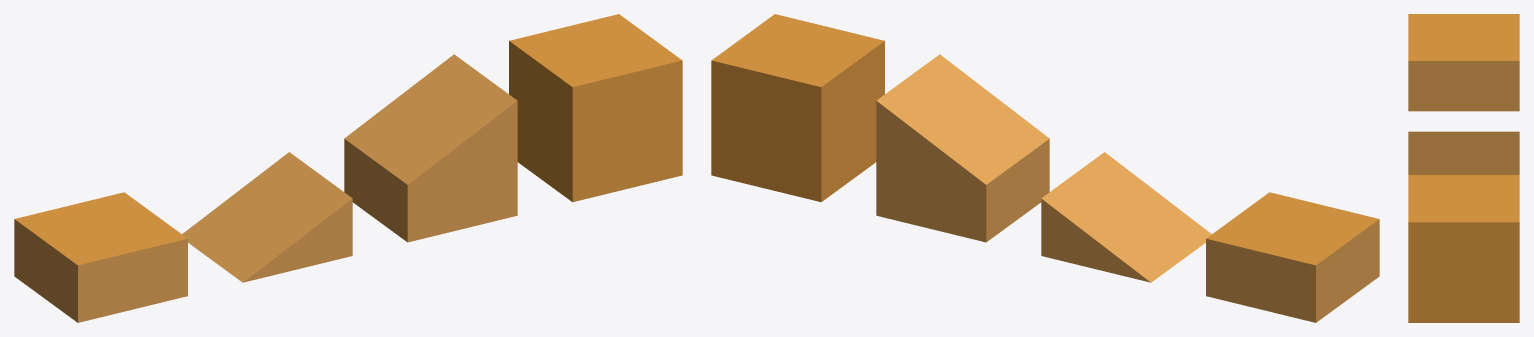
File: world-blocks-v1.glb
3 renders of one model, left to right at view 1: azimuth 30°, elevation 25°; view 2: azimuth 150°, elevation 25°; view 3: azimuth 270°, elevation 25°, orthographic. The views are drawn at different scales.
Parts seen in each view (by area): view 1: Block, RampTop, ShortBlock, RampBottom; view 2: Block, RampTop, ShortBlock, RampBottom; view 3: Block, ShortBlock, RampTop, RampBottom.
Boxes of the visible parts, bbox=[...] form: Block: bbox=[509, 14, 682, 202]; RampTop: bbox=[344, 54, 517, 242]; ShortBlock: bbox=[14, 192, 187, 322]; RampBottom: bbox=[182, 152, 352, 282]; Block: bbox=[711, 14, 884, 202]; RampTop: bbox=[876, 54, 1049, 242]; ShortBlock: bbox=[1206, 192, 1379, 322]; RampBottom: bbox=[1041, 152, 1211, 282]; Block: bbox=[1408, 175, 1519, 322]; ShortBlock: bbox=[1408, 14, 1519, 111]; RampTop: bbox=[1408, 151, 1519, 174]; RampBottom: bbox=[1408, 131, 1519, 151].
Size of what is drawn, in the model's own units: 11 by 2 by 2.
